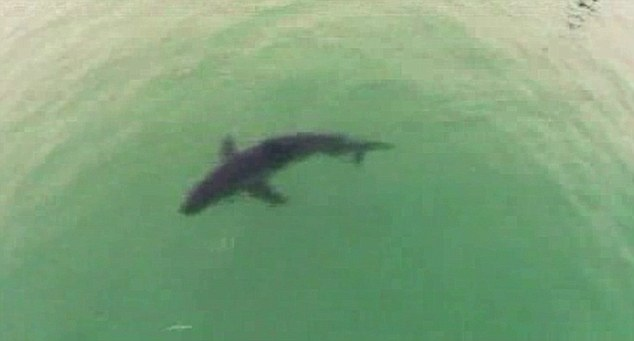shark: (172, 123, 398, 220)
